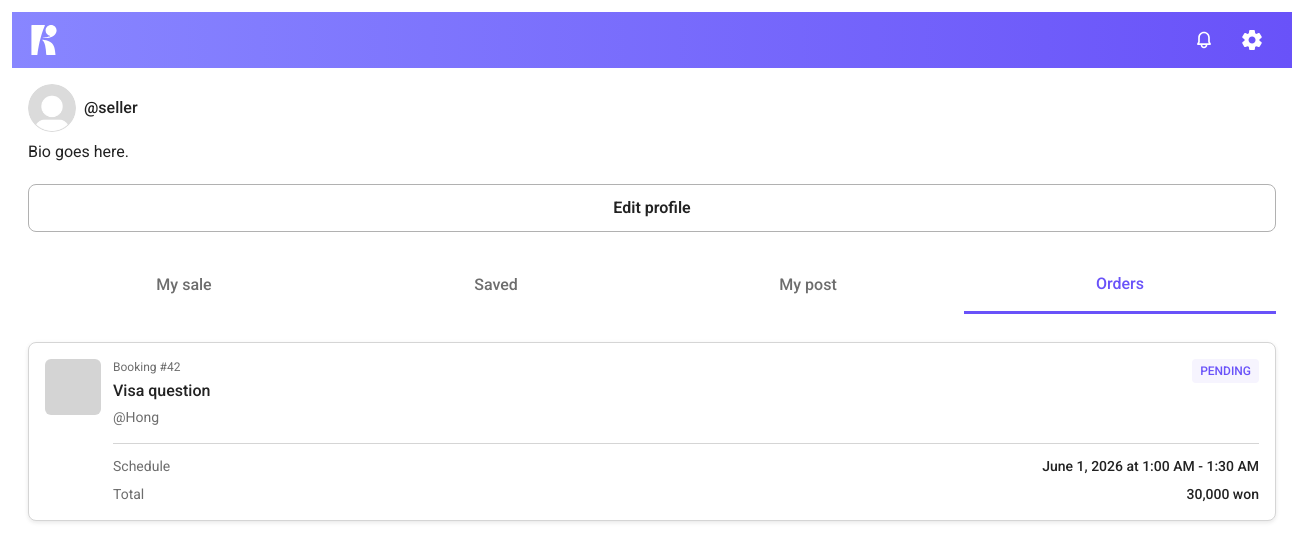
opens the booking detail from customer orders
expect the heading "Visa question" is shown: met, box [113,379,210,403]
expect the text "@Hong" is shown: met, box [113,409,159,425]
Click the button "Visa question": (652, 432) [28,342,1276,521]
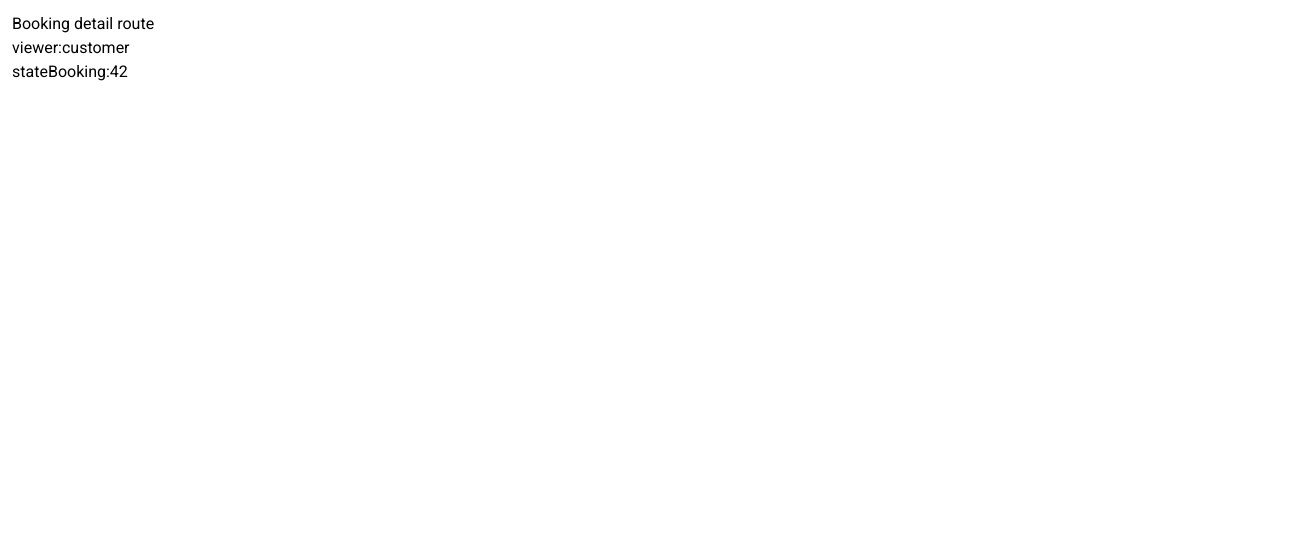
expect the text "Booking detail route" is shown: met, box [12,14,154,33]
expect the text "viewer:customer" is shown: met, box [12,38,130,57]
expect the text "stateBooking:42" is shown: met, box [12,62,128,81]
